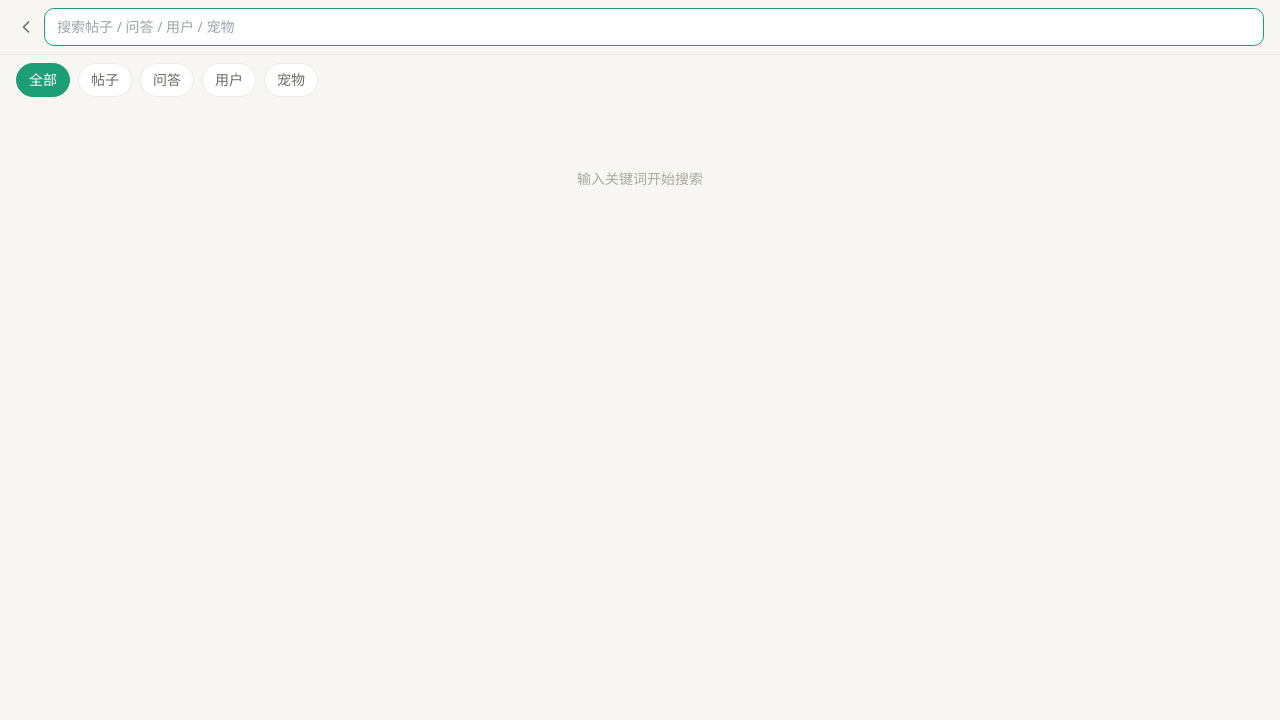
it: SearchPage 全局搜索 › 宠物匹配 + 无结果空态
Type "柯基" into the field with placeholder "搜索帖子 / 问答 / 用户 / 宠物". click: (654, 27)
box: x1=44 y1=8 x2=1264 y2=46
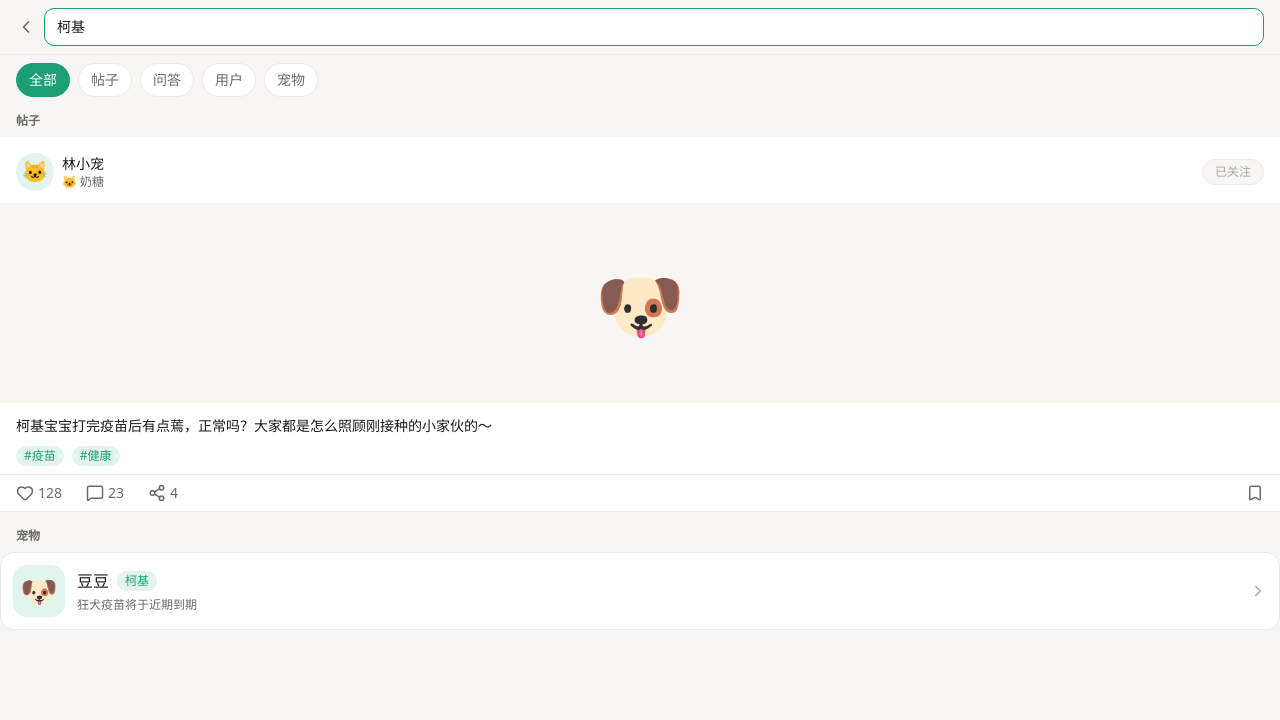
Click the button "宠物". click: (291, 80)
box: x1=264 y1=63 x2=318 y2=97
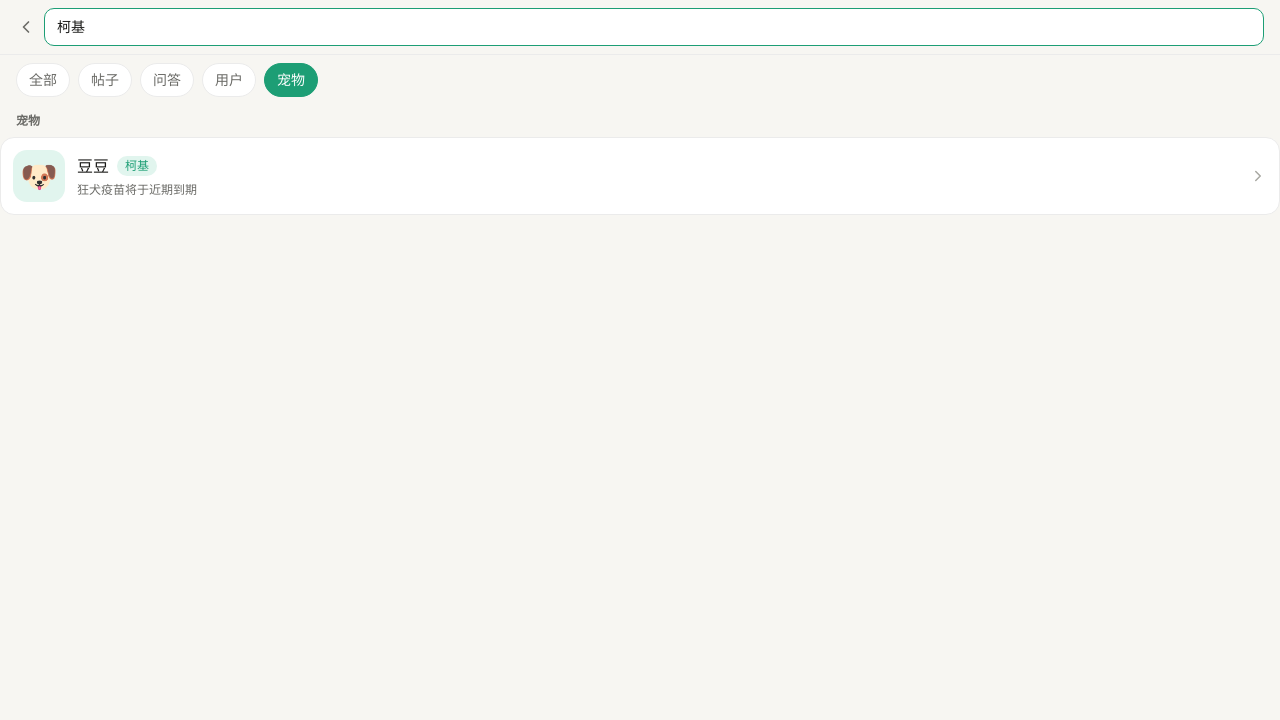
Expected: the text "豆豆" is shown, x1=77 y1=154 x2=109 y2=178
Replace the text in the field with placeholder "搜索帖子 / 问答 / 用户 / 宠物" with "zzzzzz". click: (654, 27)
box: x1=44 y1=8 x2=1264 y2=46
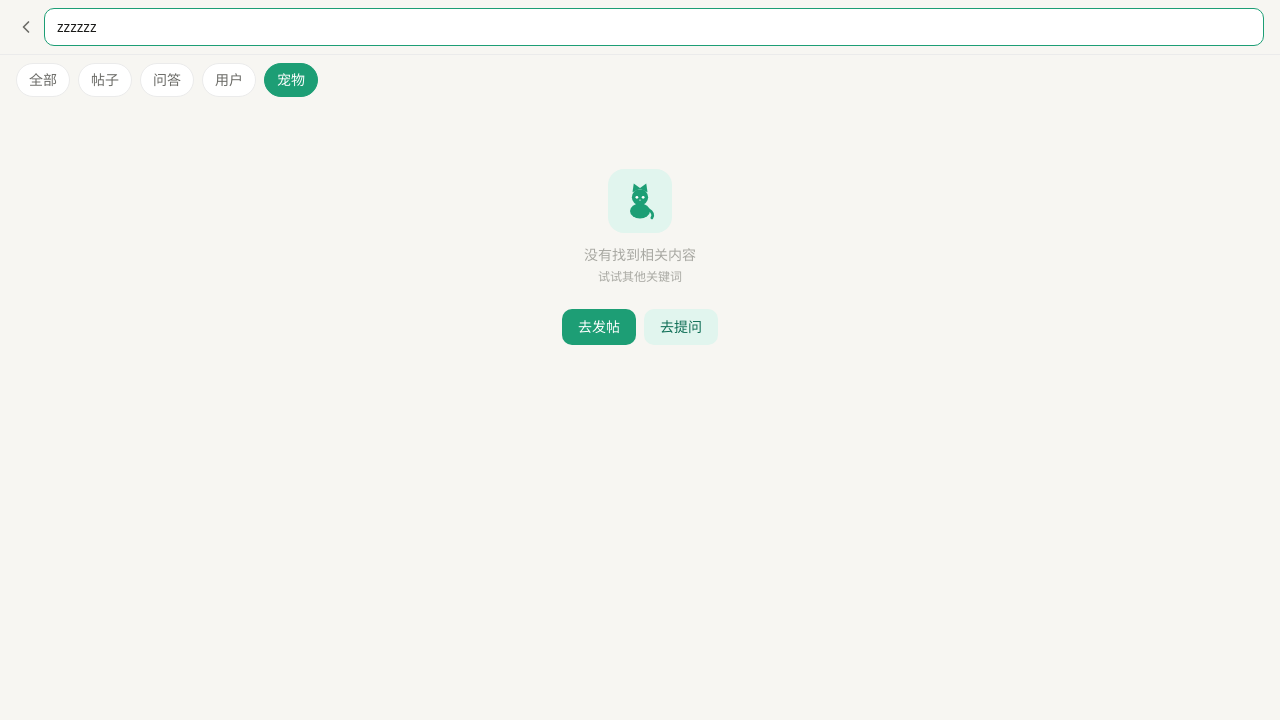
Expected: the text "没有找到相关内容" is shown, x1=584 y1=245 x2=696 y2=265
Expected: the text "试试其他关键词" is shown, x1=598 y1=269 x2=682 y2=285
Expected: the button "去发帖" is shown, x1=562 y1=309 x2=636 y2=345
